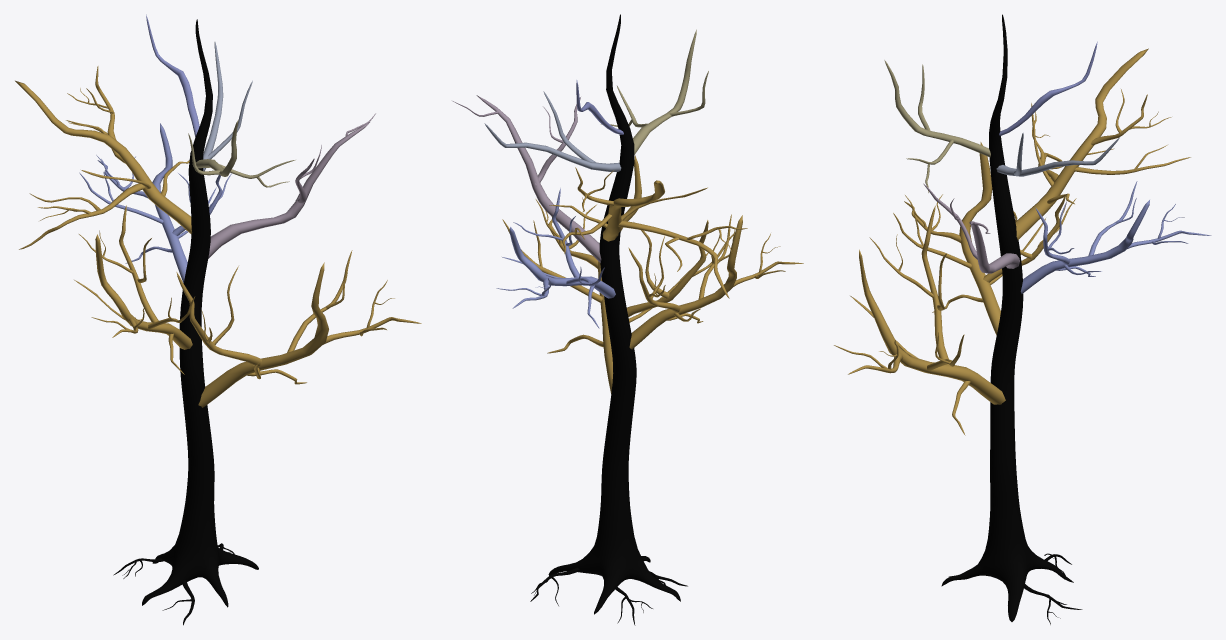
File: SM_Tree_Burnt_vs.fbx
3 renders of one model, left to right at view 1: azimuth 30°, elevation 25°; view 2: azimuth 150°, elevation 25°; view 3: azimuth 270°, elevation 25°, orthographic.
Visible parts, largest first — view 1: SM_Tree_Burnt_vs.mo; view 2: SM_Tree_Burnt_vs.mo; view 3: SM_Tree_Burnt_vs.mo.
Part boxes in pixels (x1,y1,x2,y2): SM_Tree_Burnt_vs.mo: (15, 14, 421, 625); SM_Tree_Burnt_vs.mo: (452, 14, 803, 625); SM_Tree_Burnt_vs.mo: (834, 14, 1211, 624).
Bounding box in the file's own units: 832 × 1446 × 852.
